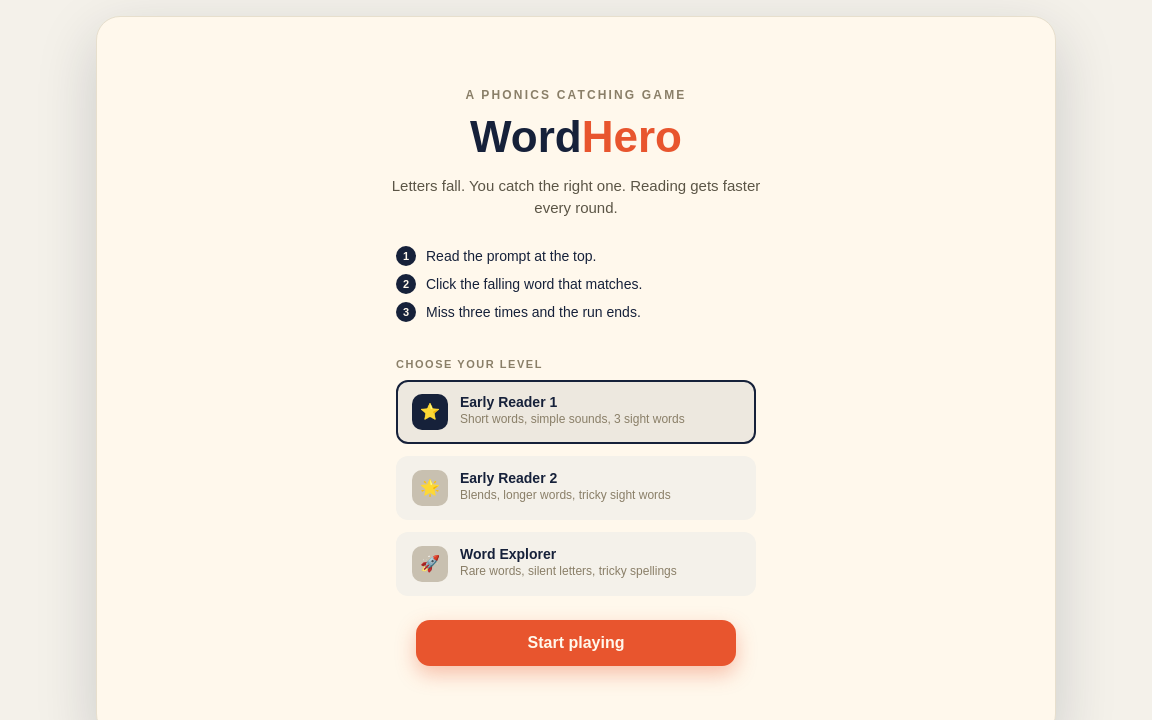
WordHero — difficulty selection › can start a game with Word Explorer
Click the button "🚀 Word Explorer Rare words, silent letters, tricky spellings".
click(576, 564)  # box [396, 532, 756, 596]
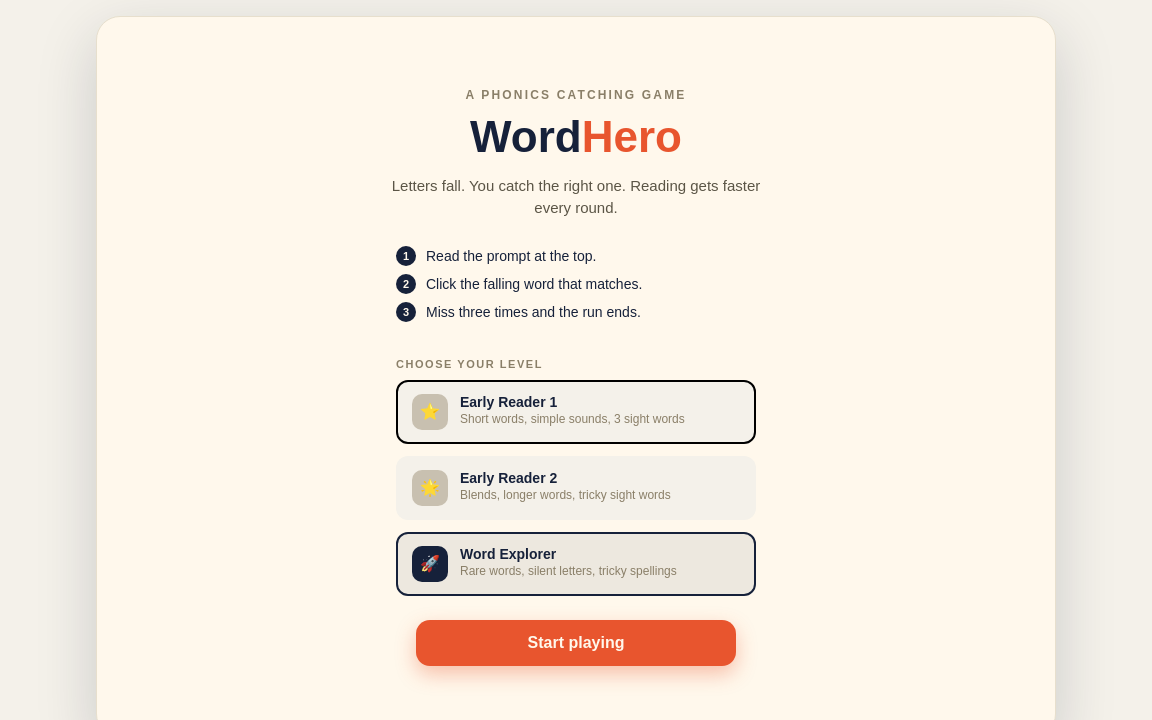
Click the button "Start playing".
click(576, 643)  # box [416, 620, 736, 666]
Wait 2700 ms
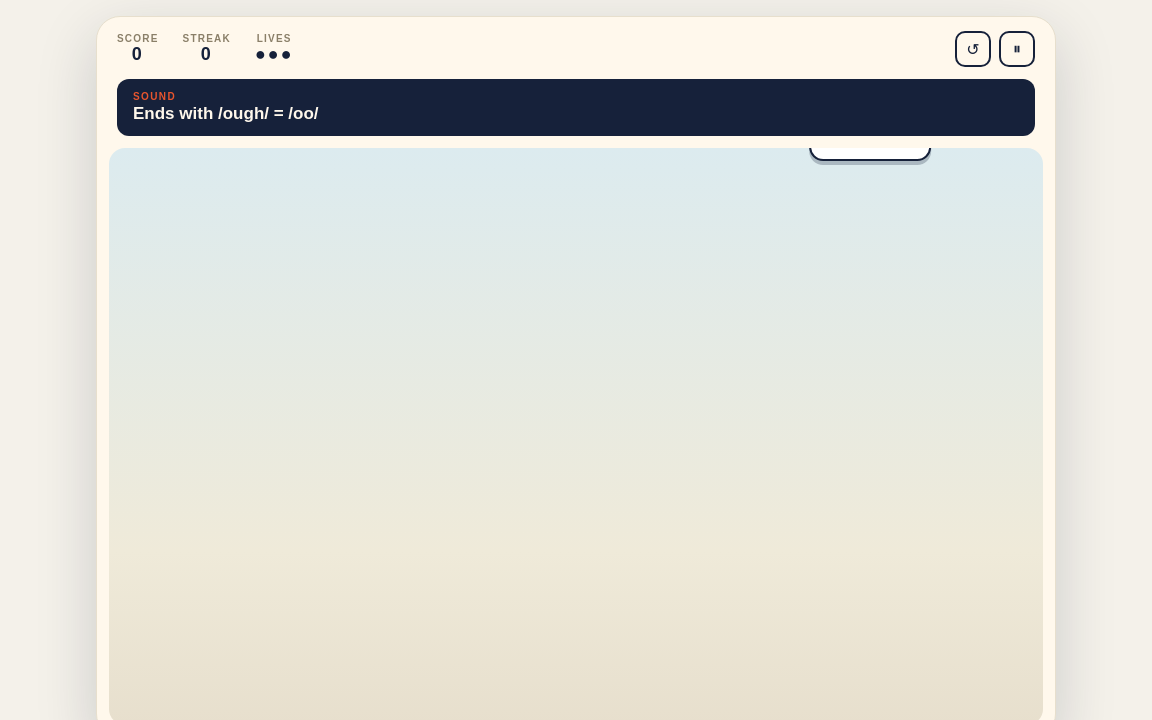
Result: the text "SCORE" is shown at [117, 33, 159, 44]
